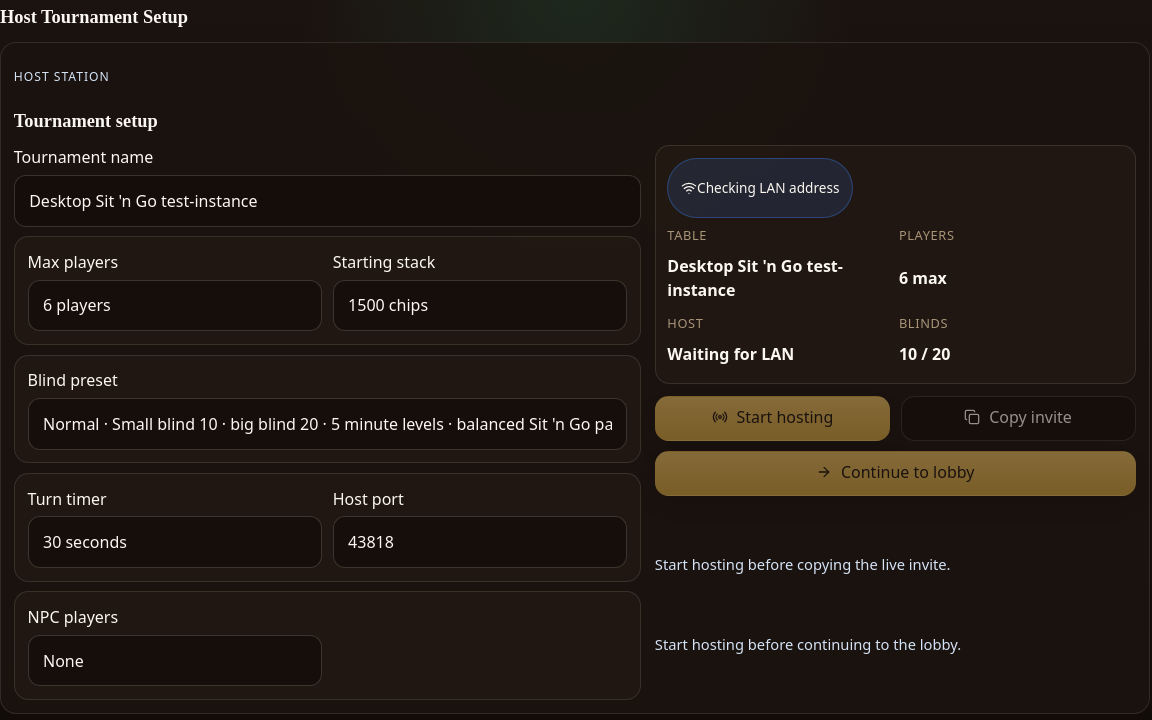
Test case: HostTournamentSetupScreen › retry adding bots succeeds and clears the error banner (P0.2)
(page scrolled)
Select "1 bot" in the dropdown labelled "NPC players": (175, 661) [28,635,322,686]
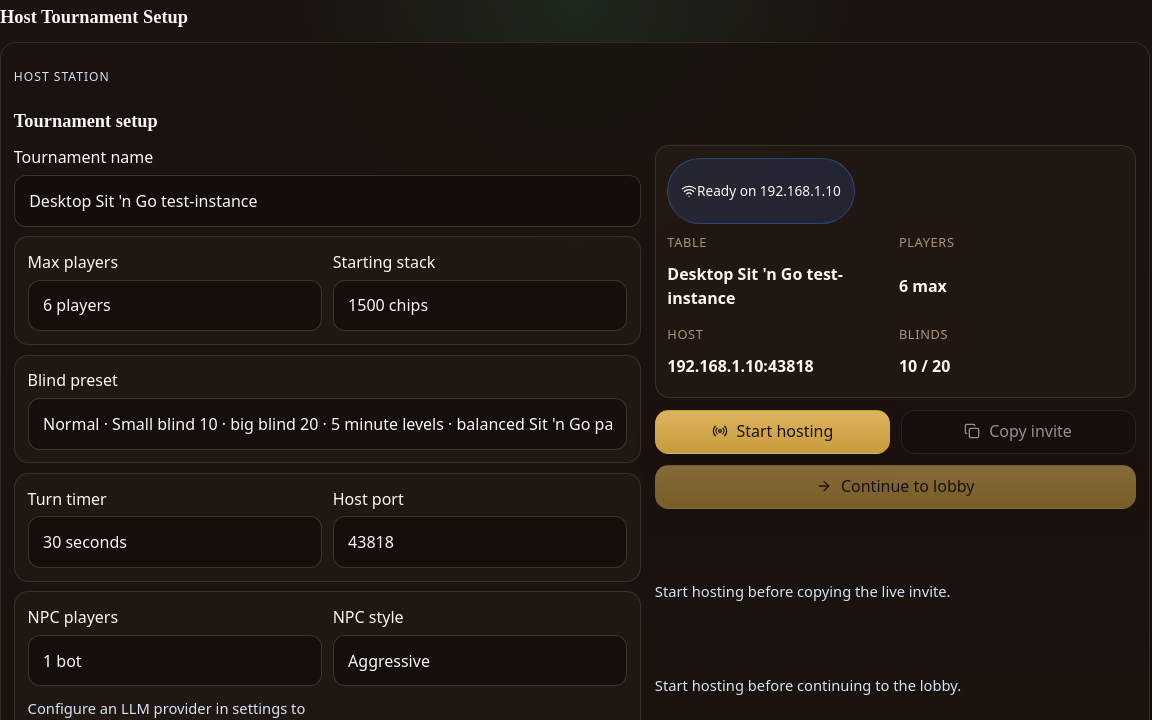
Click the button "Start hosting": (772, 432) [655,410,890,454]
(page scrolled)
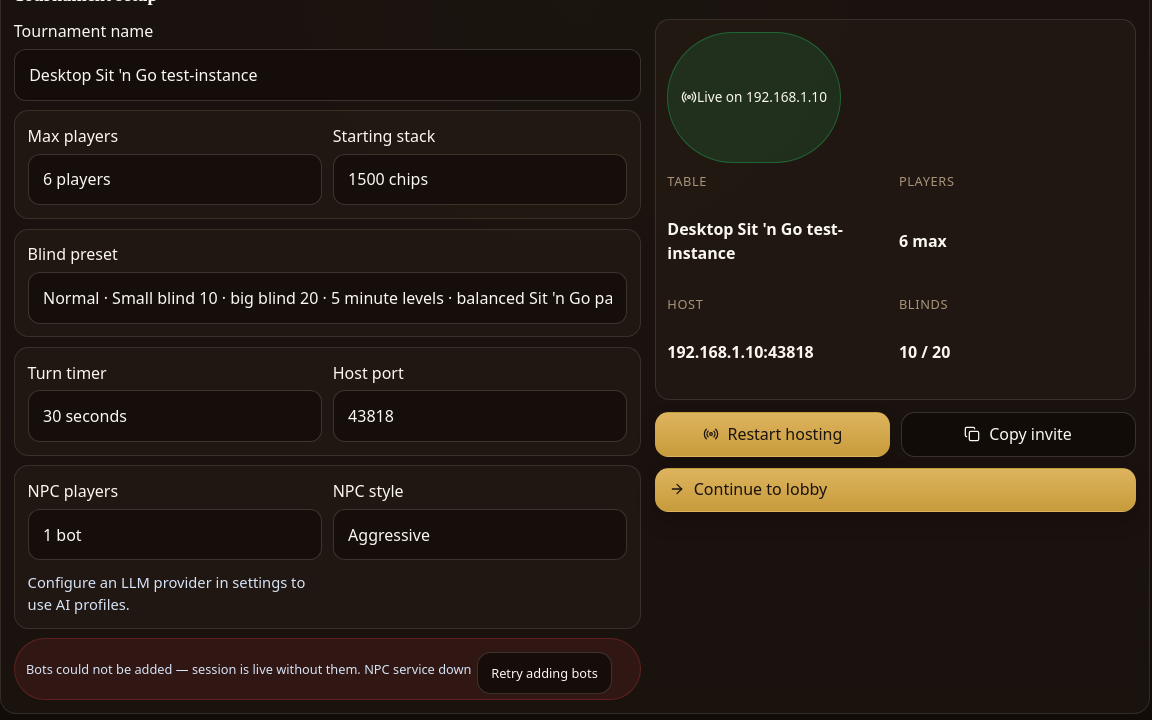
Expected: the element with test id "npc-error-with-session" is shown, [14,638,641,700]
Click the button "Retry adding bots": (544, 673) [477,652,612,694]
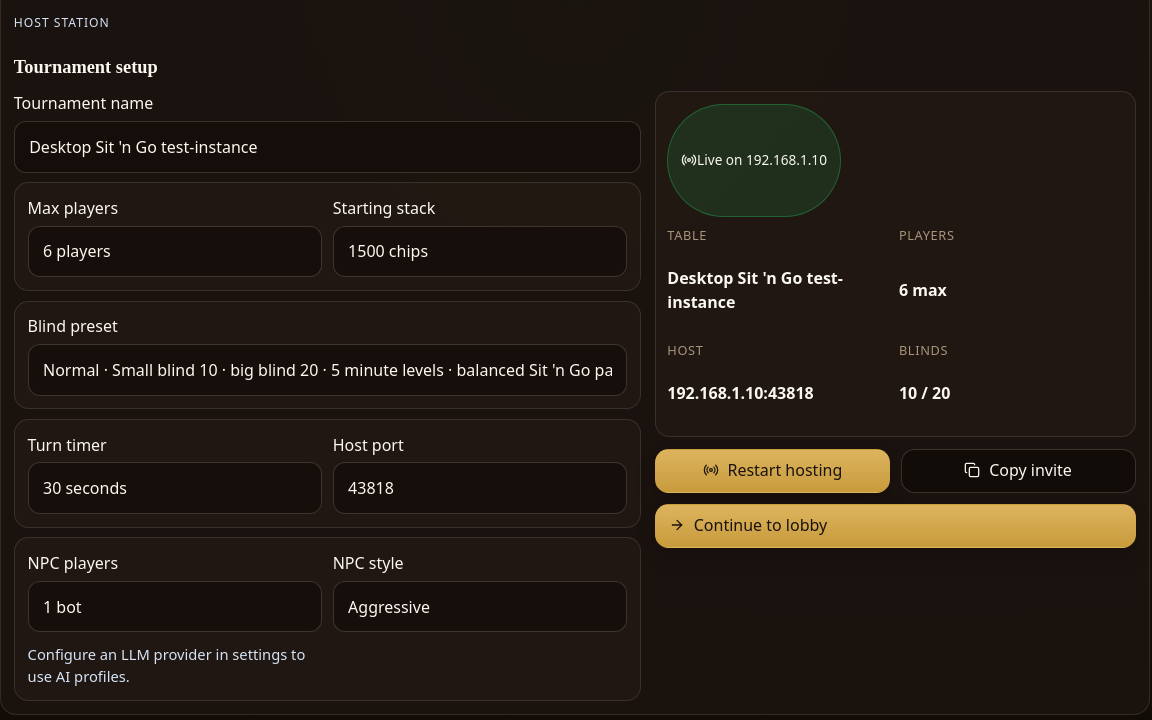
Expected: the element with test id "npc-error-with-session" is gone
